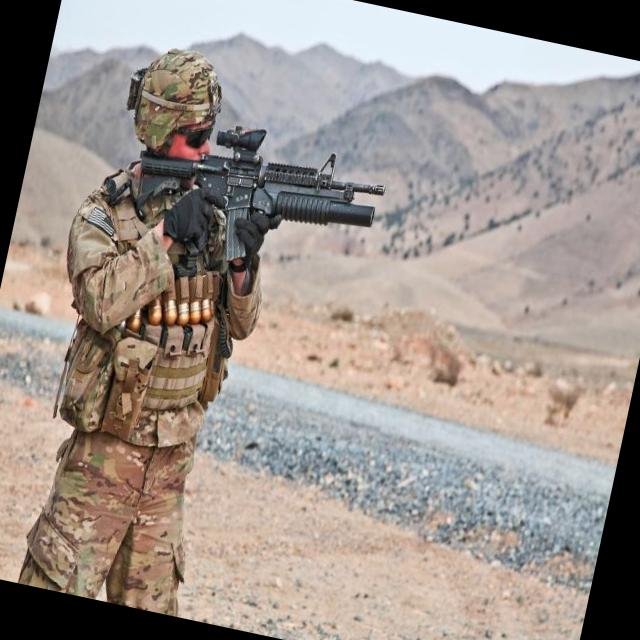Gun: (138, 126, 384, 260)
